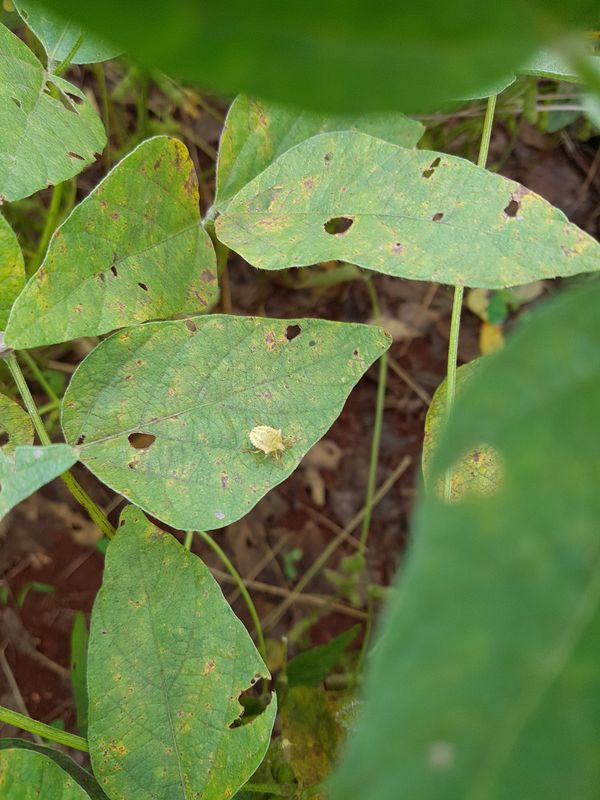Euschistus_heros_ninfa: (242, 420, 294, 468)
